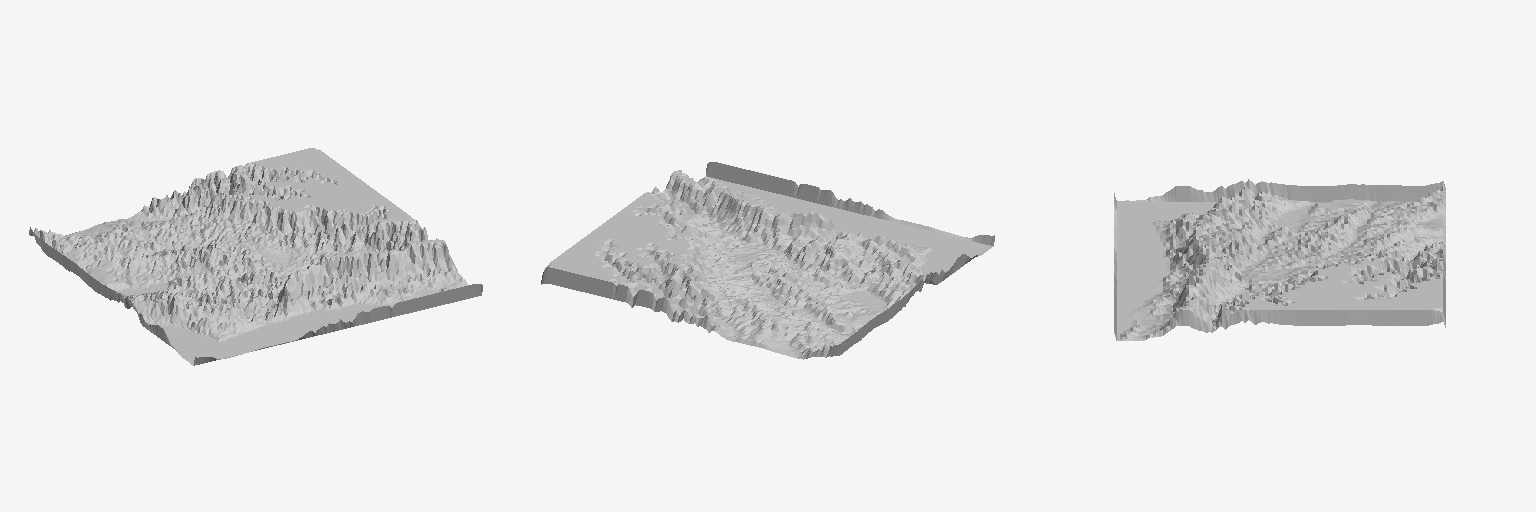
File: terrain.obj
3 views of the same model, side by side, from view 1: azimuth 30°, elevation 25°; view 2: azimuth 150°, elevation 25°; view 3: azimuth 270°, elevation 25° (orthographic).
Parts seen in each view (by area): view 1: Plane; view 2: Plane; view 3: Plane.
Boxes of the visible parts, x1=… form: Plane: x1=29, y1=148, x2=482, y2=365; Plane: x1=541, y1=162, x2=994, y2=359; Plane: x1=1114, y1=179, x2=1445, y2=340.
Bounding box in the file's own units: 2 × 0.2 × 2.